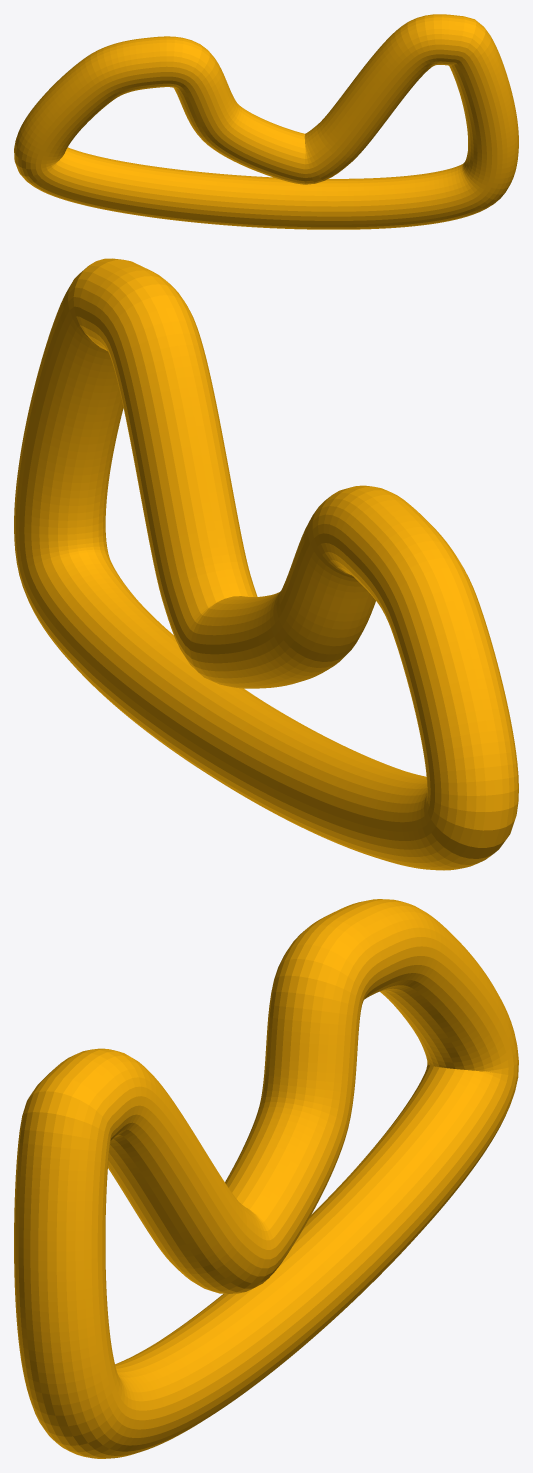
File: schlang.glb
The picture shows the model from 3 angles, top to bottom: view 1: azimuth 30°, elevation 25°; view 2: azimuth 150°, elevation 25°; view 3: azimuth 270°, elevation 25°; orthographic projection. The views are drawn at different scales.
Parts seen in each view (by area): view 1: Tube; view 2: Tube; view 3: Tube.
Part boxes in pixels (bbox=[...]): Tube: bbox=[14, 14, 518, 229]; Tube: bbox=[14, 258, 518, 870]; Tube: bbox=[14, 899, 518, 1458].
Size of the model in its own units: 0.5598 by 0.307 by 0.3533.
